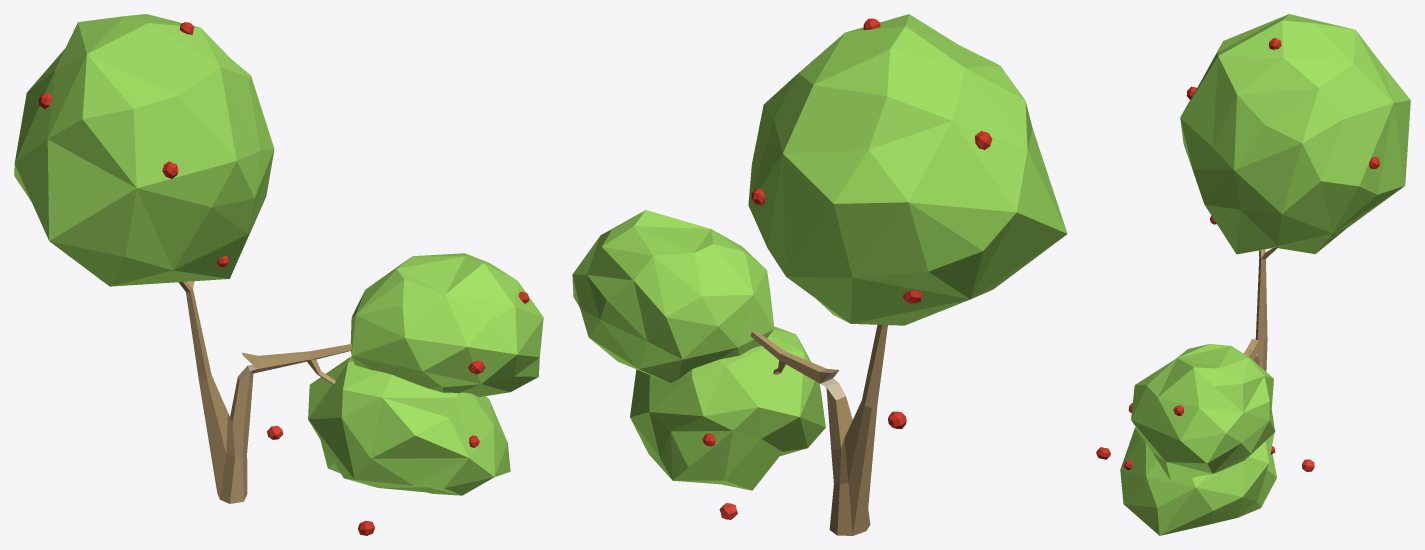
File: Apple_Tree_Apples_crk_m_04_LOD.fbx
The picture shows the model from 3 angles, left to right: view 1: azimuth 30°, elevation 25°; view 2: azimuth 150°, elevation 25°; view 3: azimuth 270°, elevation 25°; orthographic projection. The views are drawn at different scales.
Parts seen in each view (by area): view 1: Apple_Tree_Apples_crk_m_04_LOD0; view 2: Apple_Tree_Apples_crk_m_04_LOD0; view 3: Apple_Tree_Apples_crk_m_04_LOD0.
Part boxes in pixels (x1,y1,x2,y2): Apple_Tree_Apples_crk_m_04_LOD0: (14,14,543,535); Apple_Tree_Apples_crk_m_04_LOD0: (572,14,1067,535); Apple_Tree_Apples_crk_m_04_LOD0: (1096,14,1410,535).
Size of what is drawn, in the model's own units: 869 by 869 by 605.
